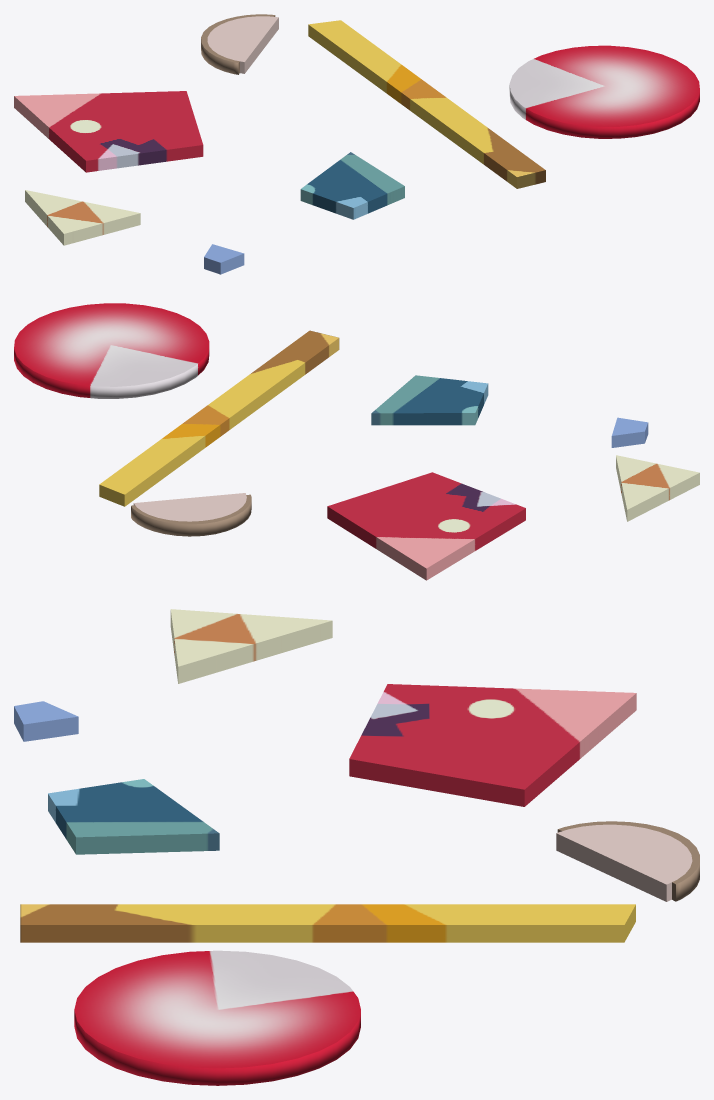
File: figuras3.fbx
3 renders of one model, top to bottom at view 1: azimuth 30°, elevation 25°; view 2: azimuth 150°, elevation 25°; view 3: azimuth 270°, elevation 25°, orthographic. The views are drawn at different scales.
Parts seen in each view (by area): view 1: circu1 c3, rect1 c3, rect4 c3, rect3 c3, tri c3, circu2 c3, rect2 c3; view 2: circu1 c3, rect1 c3, rect4 c3, rect3 c3, circu2 c3, tri c3, rect2 c3; view 3: circu1 c3, rect1 c3, rect4 c3, rect3 c3, circu2 c3, tri c3, rect2 c3.
Part boxes in pixels (<box>): circu1 c3: <box>509,45,699,138</box>; rect1 c3: <box>14,91,203,172</box>; rect4 c3: <box>308,20,545,188</box>; rect3 c3: <box>300,152,404,219</box>; tri c3: <box>25,190,140,245</box>; circu2 c3: <box>201,14,278,74</box>; rect2 c3: <box>204,244,244,274</box>; circu1 c3: <box>14,303,209,398</box>; rect1 c3: <box>327,472,525,580</box>; rect4 c3: <box>99,330,339,506</box>; rect3 c3: <box>371,375,488,425</box>; circu2 c3: <box>131,493,251,536</box>; tri c3: <box>616,455,699,521</box>; rect2 c3: <box>611,417,648,447</box>; circu1 c3: <box>74,950,360,1085</box>; rect1 c3: <box>349,684,636,806</box>; rect4 c3: <box>20,904,635,942</box>; rect3 c3: <box>48,779,219,854</box>; circu2 c3: <box>556,821,699,901</box>; tri c3: <box>170,609,332,683</box>; rect2 c3: <box>14,701,78,741</box>.
Bounding box in the file's own units: 1301 × 53.74 × 821.
1 material, 1 textured.
